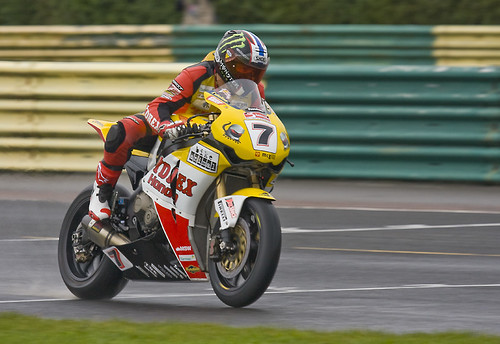helmet: (207, 18, 270, 78)
